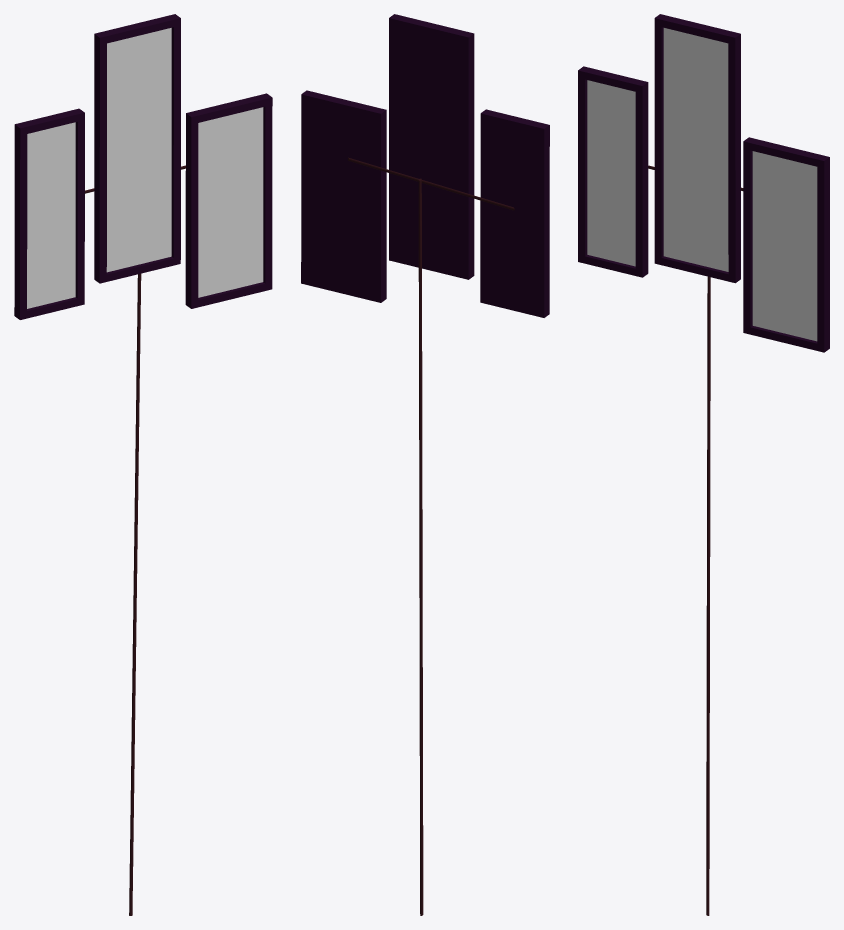
File: screen_vertical.glb
3 renders of one model, left to right at view 1: azimuth 30°, elevation 25°; view 2: azimuth 150°, elevation 25°; view 3: azimuth 330°, elevation 25°, orthographic.
Parts seen in each view (by area): view 1: screen.2, screen.3, screen.1, structure, structure.001, structure.002, bar 1; view 2: structure, structure.001, structure.002, bar 1, bar 2; view 3: screen.2, screen.3, screen.1, structure, structure.001, structure.002, bar 1.
Part boxes in pixels (x1=…): screen.2: x1=106, y1=28, x2=171, y2=272; screen.3: x1=198, y1=107, x2=263, y2=297; screen.1: x1=27, y1=122, x2=75, y2=308; structure: x1=94, y1=14, x2=180, y2=283; structure.001: x1=185, y1=93, x2=272, y2=308; structure.002: x1=14, y1=108, x2=84, y2=319; bar 1: x1=129, y1=273, x2=141, y2=915; structure: x1=389, y1=14, x2=474, y2=279; structure.001: x1=301, y1=90, x2=386, y2=302; structure.002: x1=480, y1=109, x2=549, y2=317; bar 1: x1=418, y1=178, x2=423, y2=915; bar 2: x1=348, y1=157, x2=514, y2=210; screen.2: x1=663, y1=28, x2=728, y2=271; screen.3: x1=752, y1=151, x2=817, y2=341; screen.1: x1=587, y1=80, x2=635, y2=266; structure: x1=654, y1=14, x2=740, y2=283; structure.001: x1=743, y1=137, x2=829, y2=352; structure.002: x1=578, y1=66, x2=648, y2=277; bar 1: x1=706, y1=276, x2=710, y2=915.
Bounding box in the file's own units: 5.6 × 19.25 × 0.5185.
